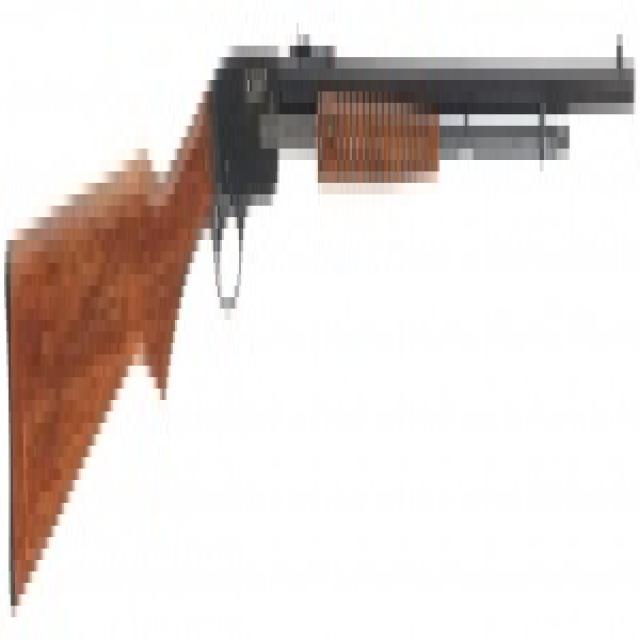rifle: (1, 24, 639, 629)
